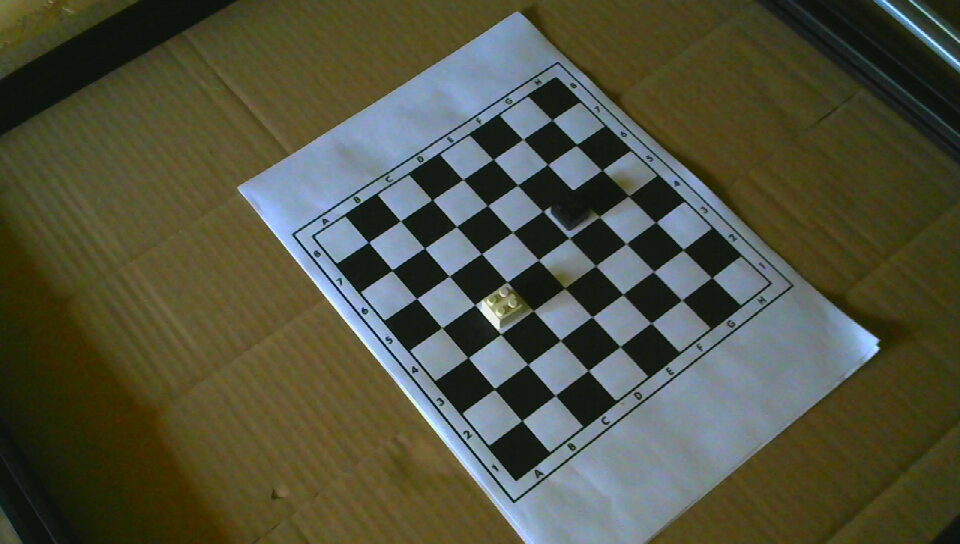bp: (551, 192, 590, 230)
wp: (483, 285, 525, 328)
